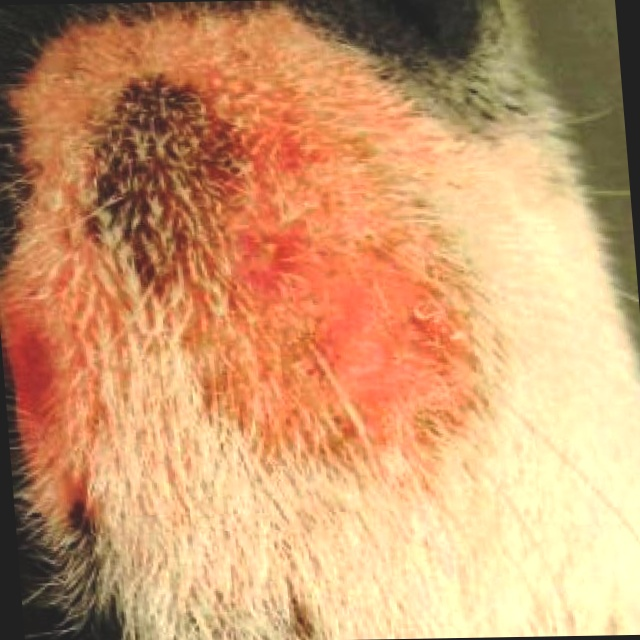ringworm: (217, 111, 424, 422)
